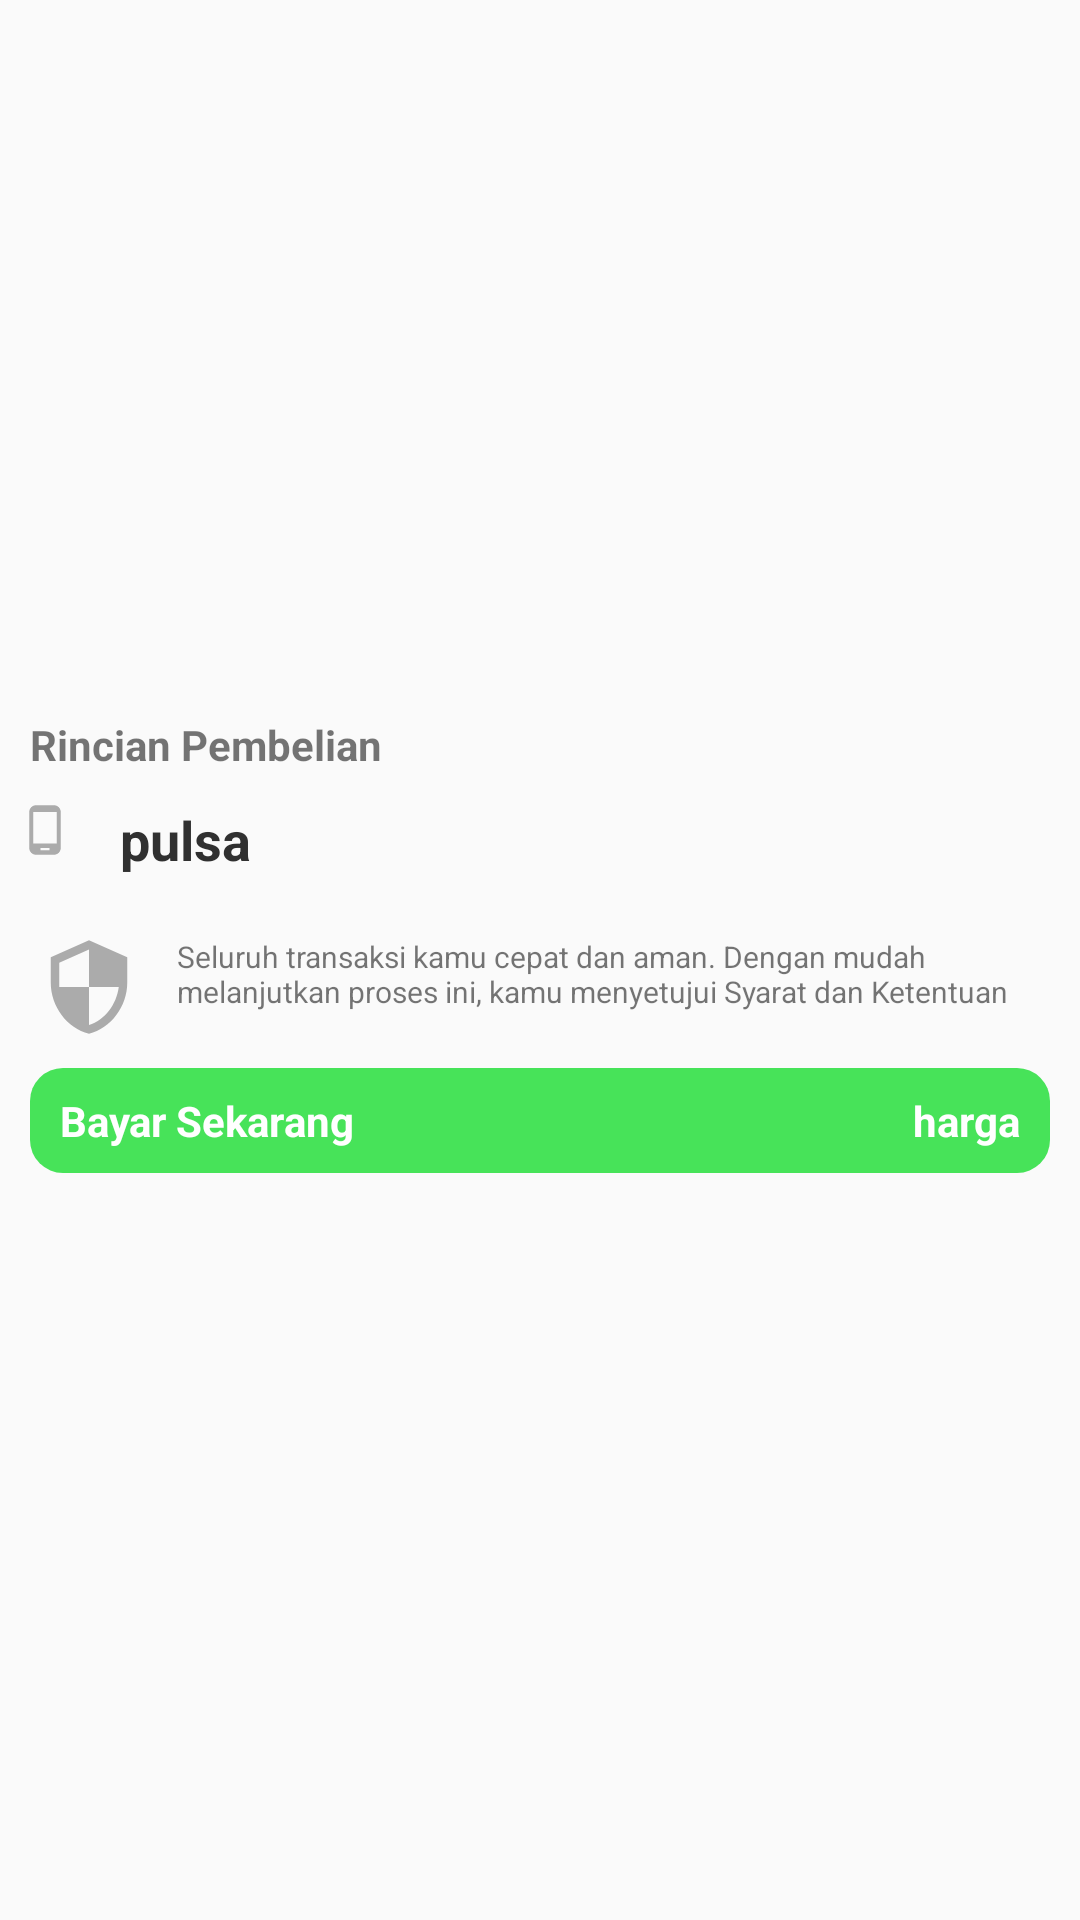

Screen size 1080×1920. Icon name, then its center in pixels as (x,y):
phone android: (45,830)
security: (89,987)
